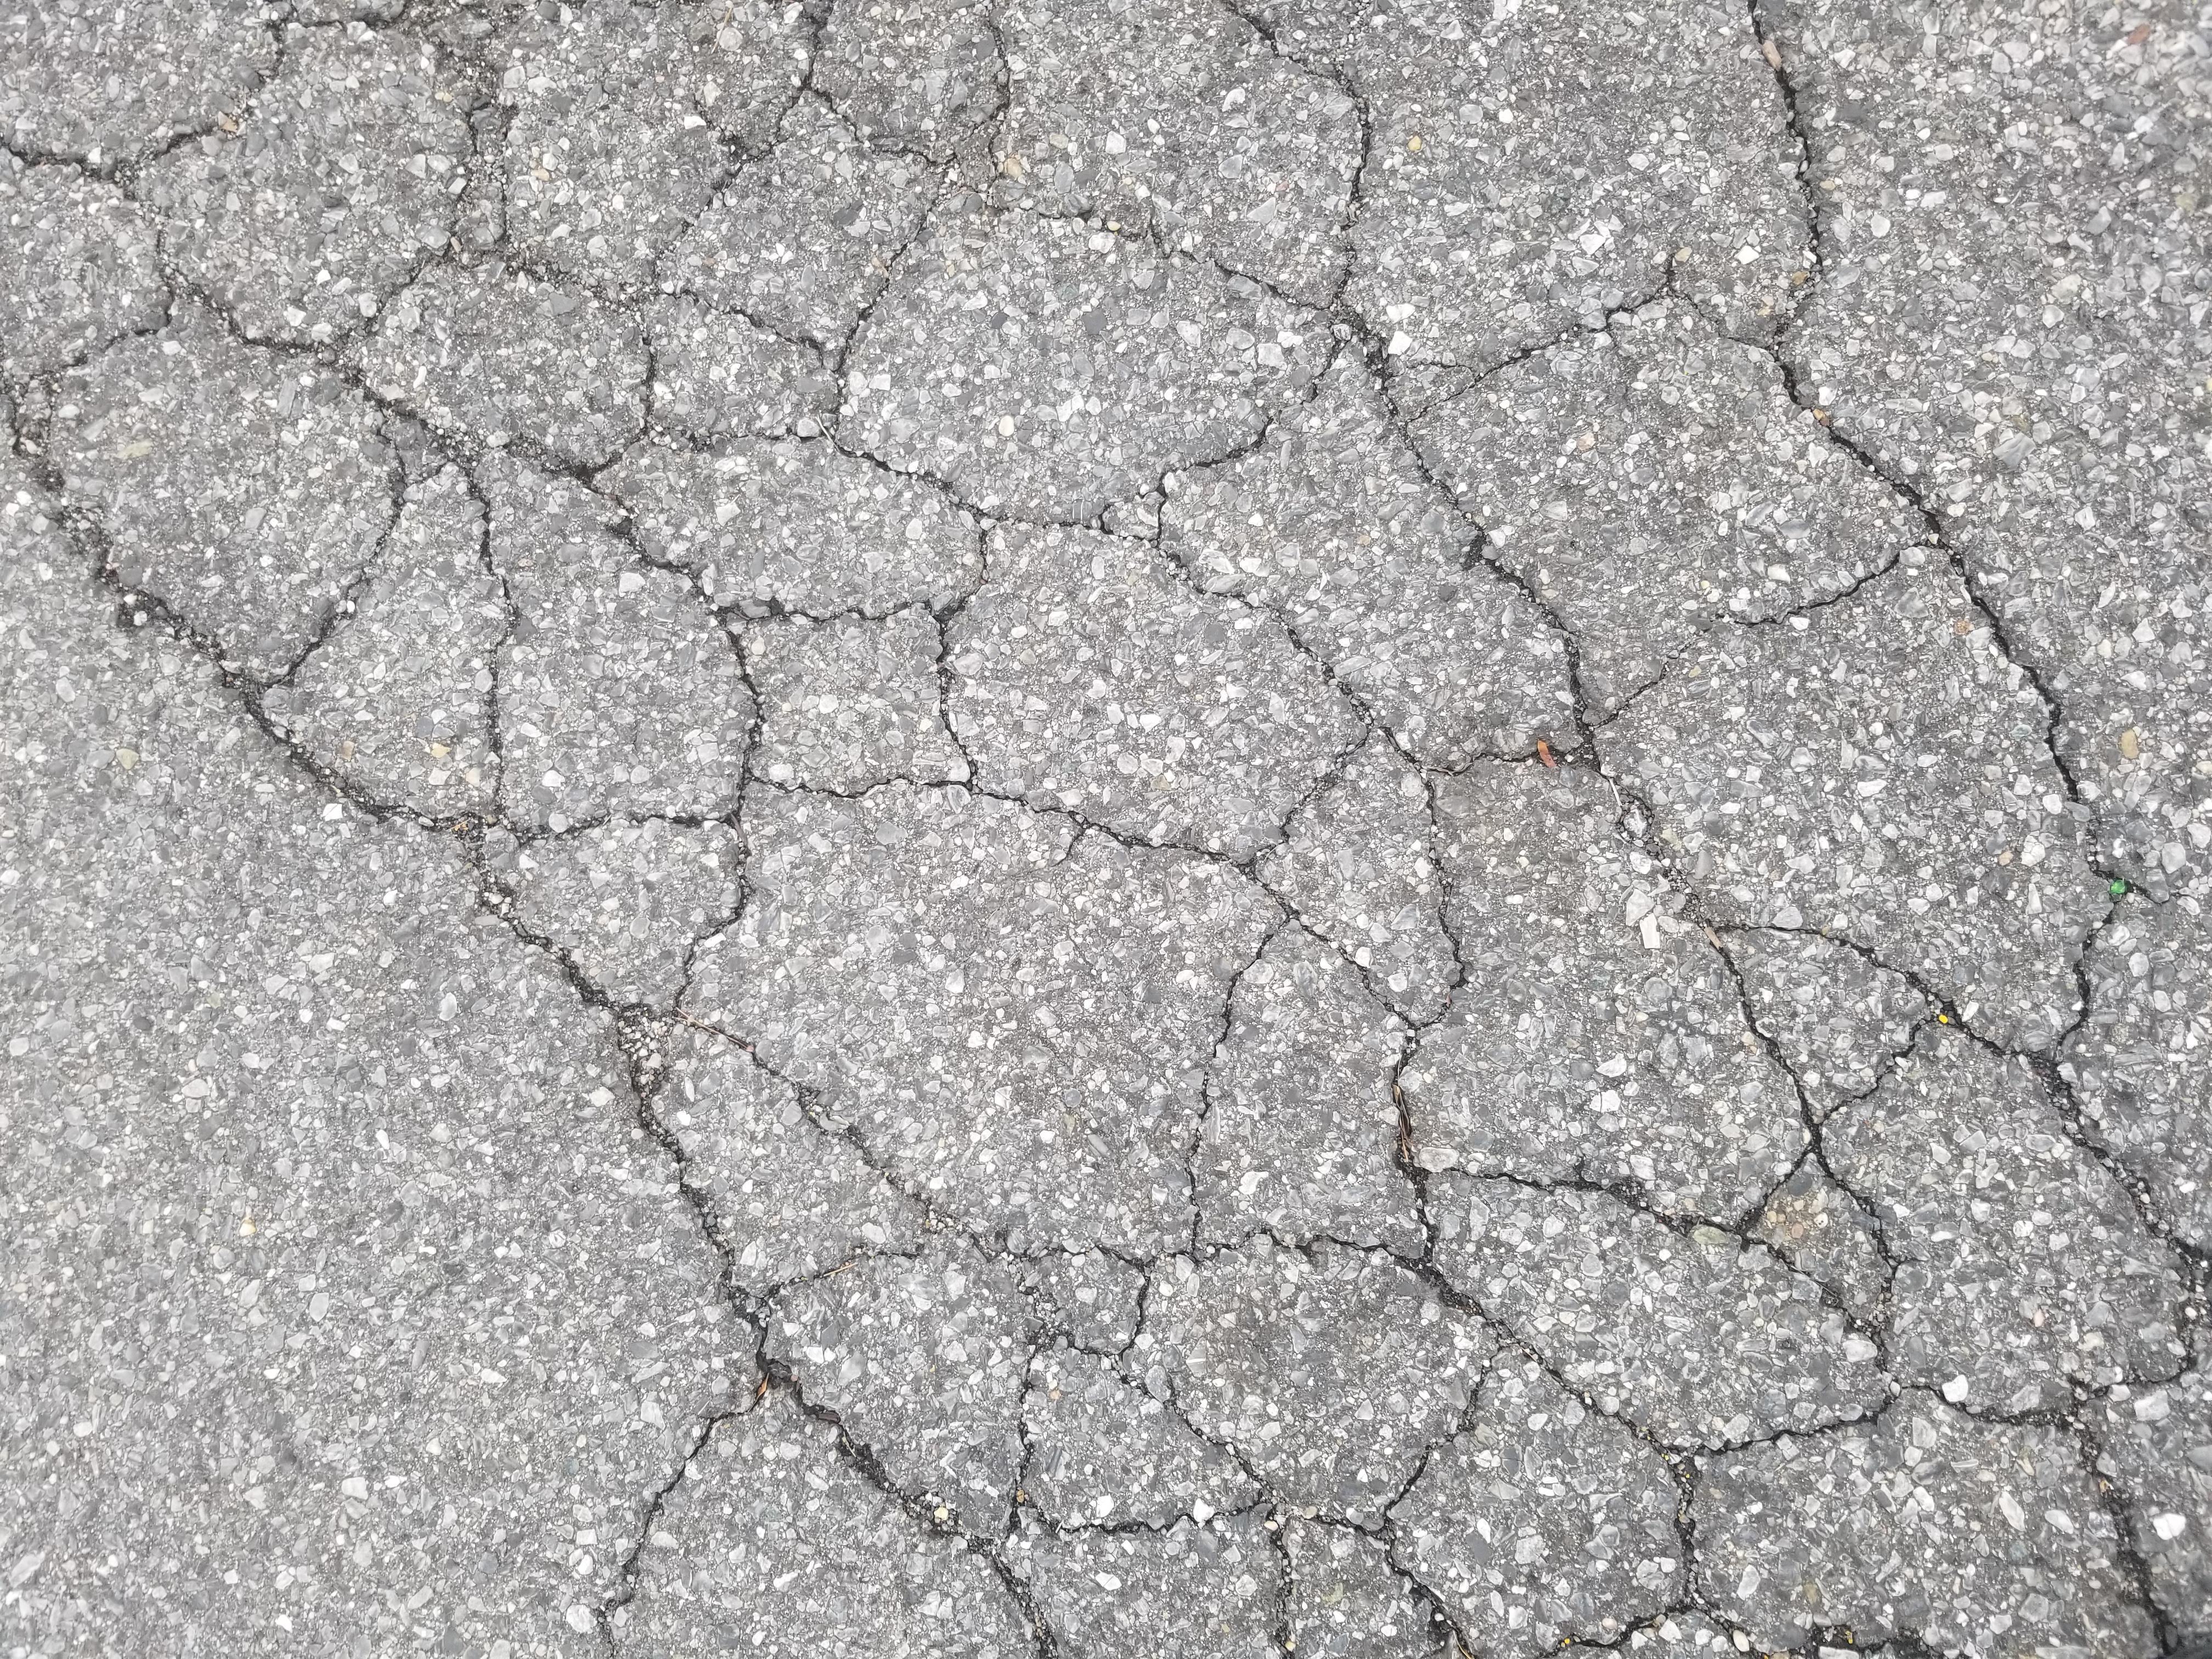alligator-crack: (0, 0, 2202, 1659), (118, 392, 1472, 1647), (1010, 0, 2212, 1044), (1099, 692, 2212, 1554)
